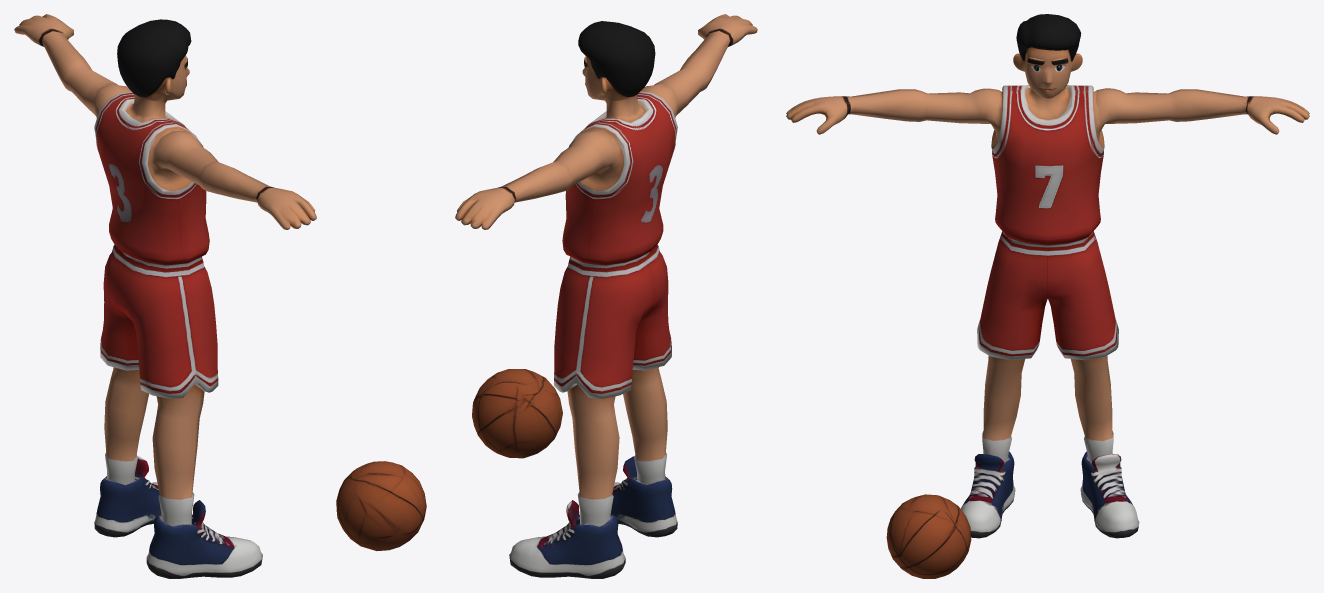
File: attacker-p2.glb
The picture shows the model from 3 angles, left to right: view 1: azimuth 30°, elevation 25°; view 2: azimuth 150°, elevation 25°; view 3: azimuth 270°, elevation 25°; orthographic projection. The views are drawn at different scales.
Parts seen in each view (by area): view 1: tripo_node_d7e10fa6-f52b-4fcd-a965-b77ae473f9dd; view 2: tripo_node_d7e10fa6-f52b-4fcd-a965-b77ae473f9dd; view 3: tripo_node_d7e10fa6-f52b-4fcd-a965-b77ae473f9dd.
Boxes of the visible parts, <box> form: tripo_node_d7e10fa6-f52b-4fcd-a965-b77ae473f9dd: <box>14,14,426,578</box>; tripo_node_d7e10fa6-f52b-4fcd-a965-b77ae473f9dd: <box>455,14,757,578</box>; tripo_node_d7e10fa6-f52b-4fcd-a965-b77ae473f9dd: <box>786,14,1309,578</box>.
Bounding box in the file's own units: 0.48 × 0.9995 × 0.9585.
1 material, 1 textured.
